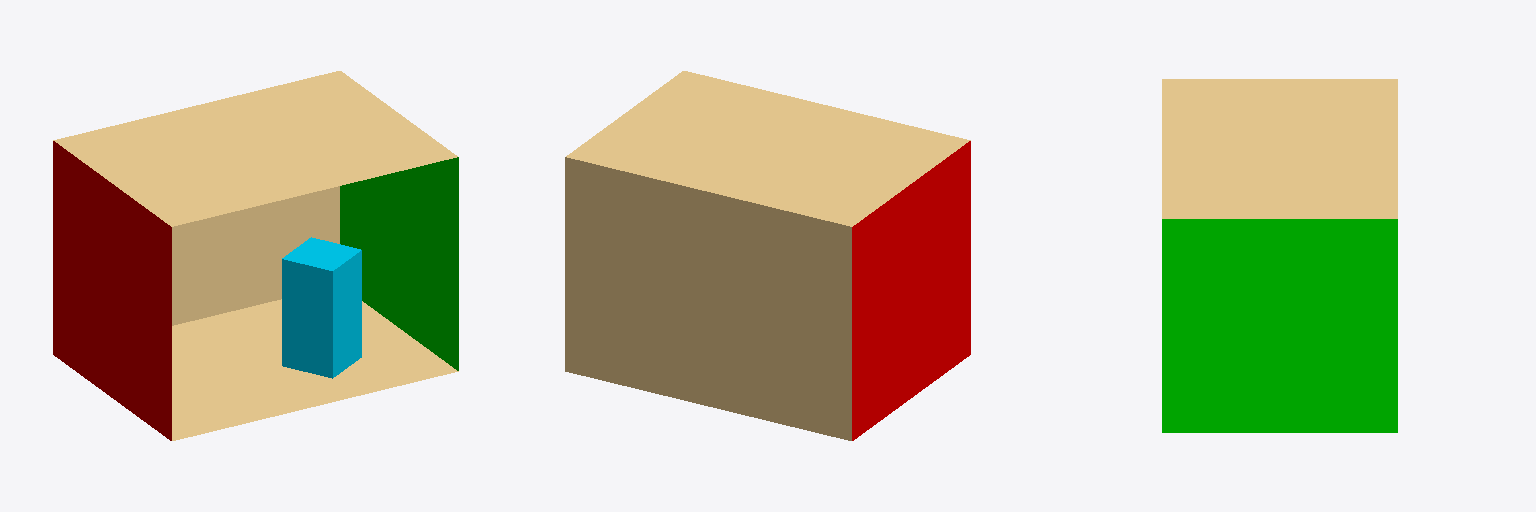
Rendered from Cornell_box.obj.
3 views of the same model, side by side, from view 1: azimuth 30°, elevation 25°; view 2: azimuth 150°, elevation 25°; view 3: azimuth 270°, elevation 25° (orthographic).
Visible parts, largest first — view 1: Mesh; view 2: Mesh; view 3: Mesh.
Boxes of the visible parts, x1,y1,x2,y2 form: Mesh: [53, 71, 458, 440]; Mesh: [565, 71, 970, 440]; Mesh: [1162, 79, 1397, 432].
Size of the model in its own units: 56 by 40 by 40.